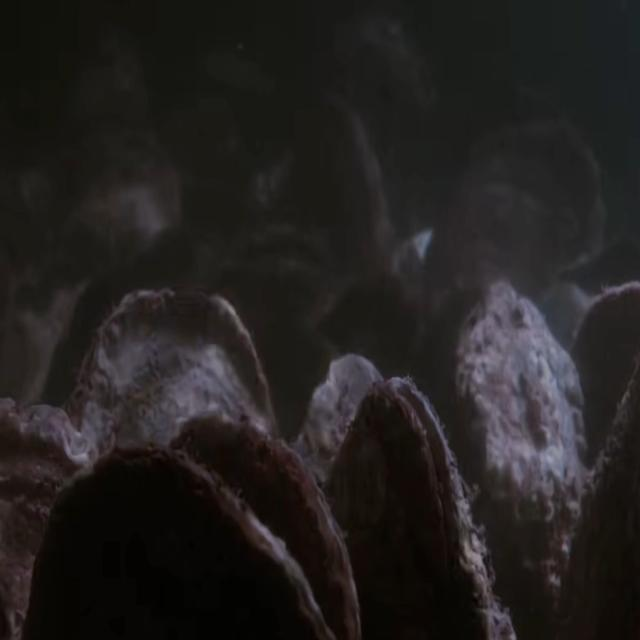Oyster-Closed: (23, 443, 334, 640), (169, 411, 362, 640), (0, 394, 100, 640)
Oyster-Indeterminate: (63, 291, 280, 640), (453, 281, 588, 640), (423, 119, 606, 324), (293, 353, 387, 640), (299, 96, 401, 290), (58, 134, 184, 276), (568, 282, 640, 499)
Oyster-Open: (322, 375, 514, 640), (214, 221, 339, 323)
